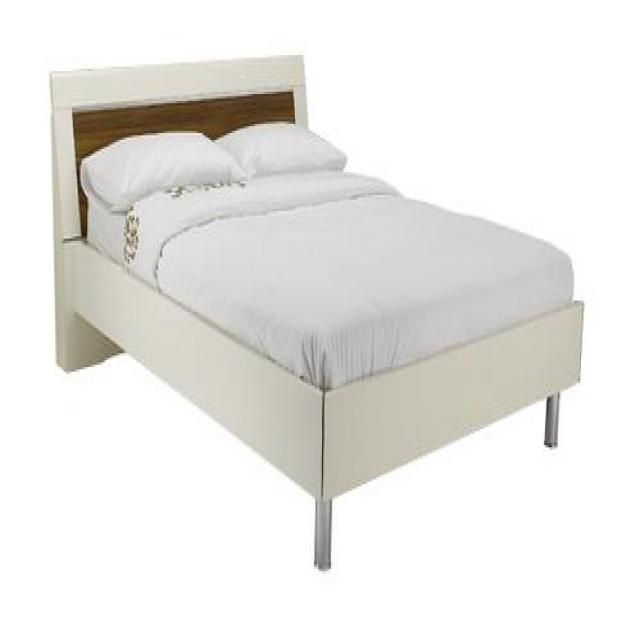bed: (49, 53, 585, 569)
